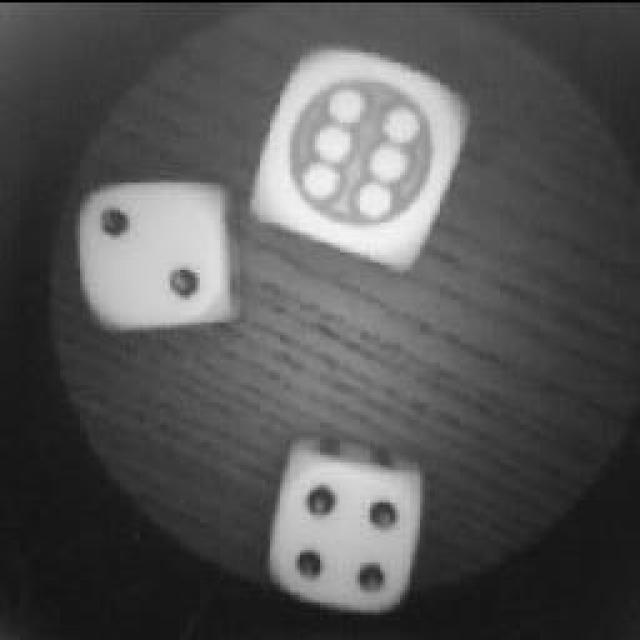dice_2: (75, 170, 240, 332)
dice_4: (260, 447, 432, 615)
dice_6: (248, 43, 472, 265)
